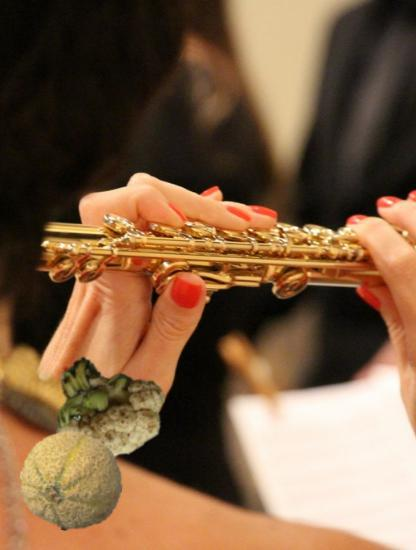Cantaloupe: (20, 428, 124, 532)
Cauliflower: (44, 347, 164, 467)
